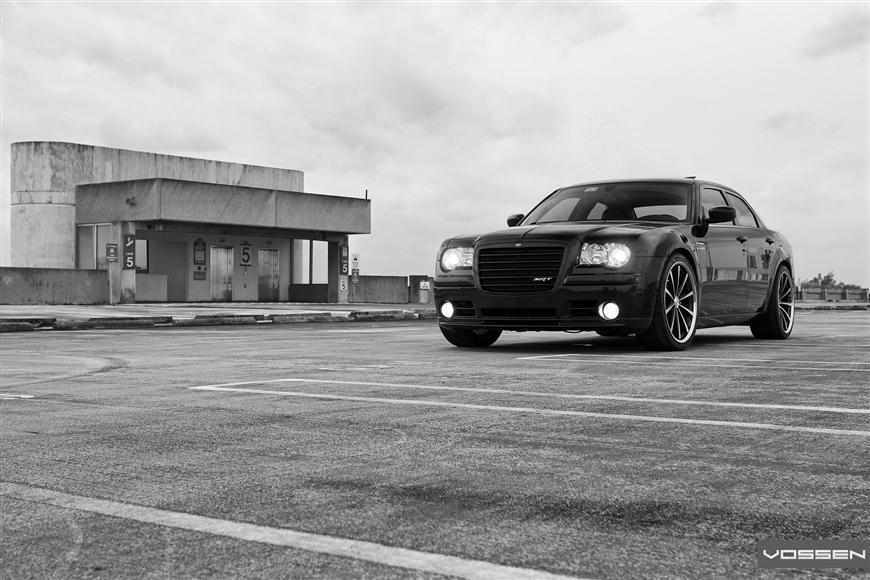car: (432, 174, 804, 348)
